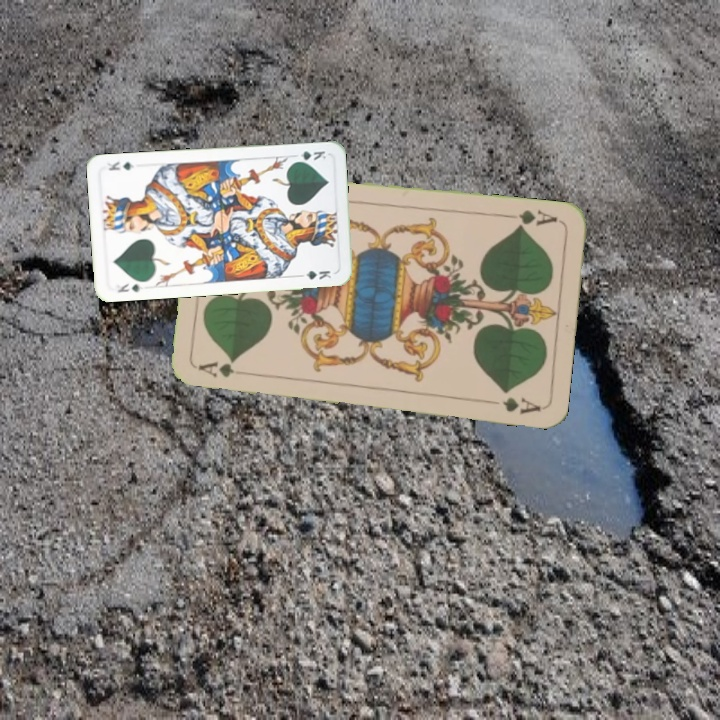GA: (502, 205, 560, 231), (195, 358, 237, 380)
GK: (289, 147, 328, 165), (114, 279, 145, 295)
